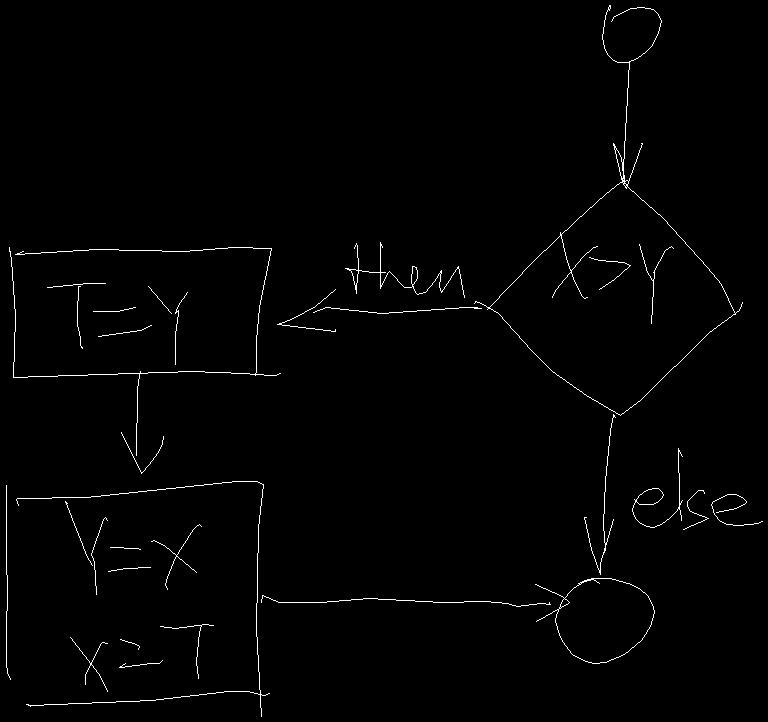arrow: (261, 584, 569, 621), (277, 289, 481, 331), (584, 414, 615, 574), (121, 371, 163, 473), (613, 61, 642, 188)
connection: (555, 578, 654, 663), (602, 5, 661, 62)
decision: (474, 177, 742, 415)
process: (6, 481, 269, 716), (9, 247, 280, 377)
text: (65, 501, 213, 691), (47, 283, 187, 364), (552, 232, 673, 323), (632, 448, 762, 529), (345, 242, 464, 297)
